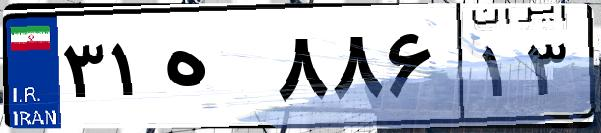1: (475, 38, 525, 113), (110, 28, 158, 98)
3: (57, 26, 110, 100), (525, 38, 570, 115)
6: (385, 28, 445, 110)
8: (270, 28, 330, 110), (330, 28, 385, 110)
ه: (158, 20, 270, 120)
